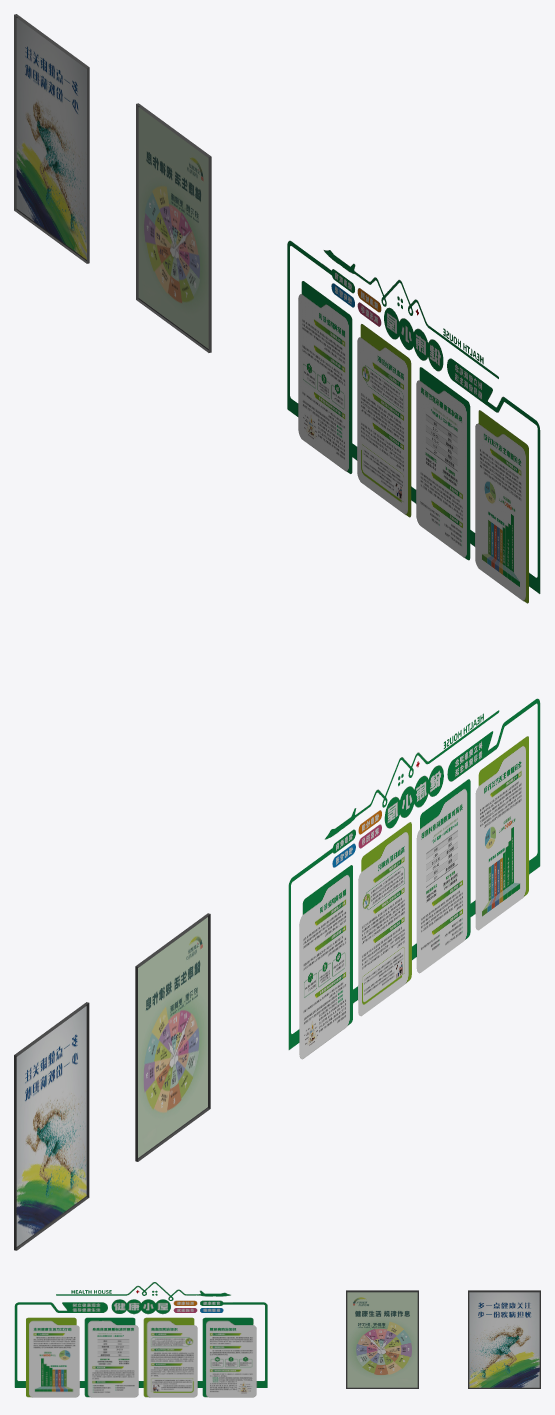
File: SM_检查室_标牌_01.fbx
3 views of the same model, one above another, from view 1: azimuth 30°, elevation 25°; view 2: azimuth 150°, elevation 25°; view 3: azimuth 270°, elevation 25° (orthographic). The views are drawn at different scales.
Parts seen in each view (by area): view 1: SM_检查室_标牌_01; view 2: SM_检查室_标牌_01; view 3: SM_检查室_标牌_01.
Part boxes in pixels (x1,y1,x2,y2): SM_检查室_标牌_01: (14,14,540,603); SM_检查室_标牌_01: (14,698,540,1250); SM_检查室_标牌_01: (14,1282,540,1397).
Bounding box in the file's own units: 19.35 × 1629 × 6384.
